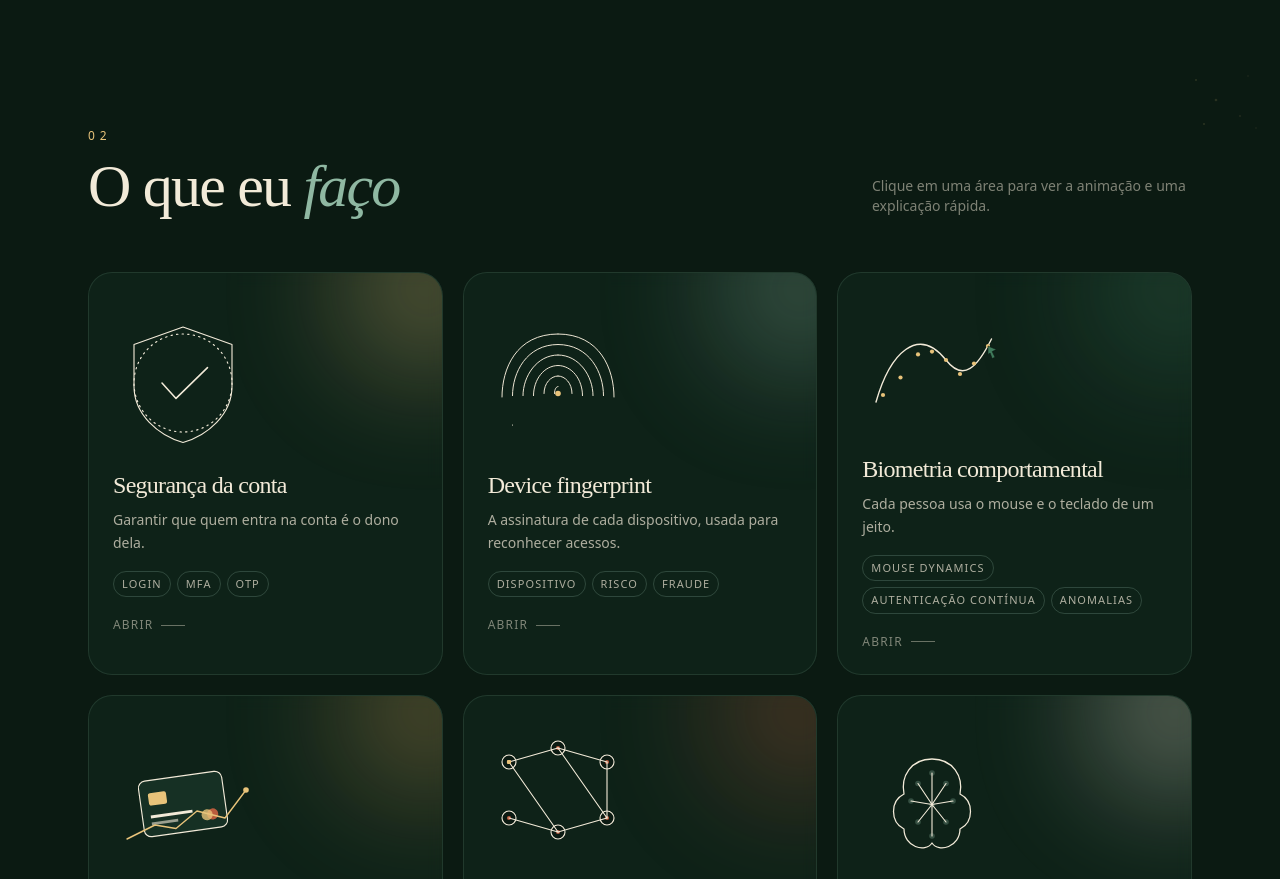
it: Expertise › abre o modal com a explicação da área e registra o evento
This screenshot has width=1280, height=879.
Click the button "Segurança da conta" at (265, 473), box [88,272,443,674]
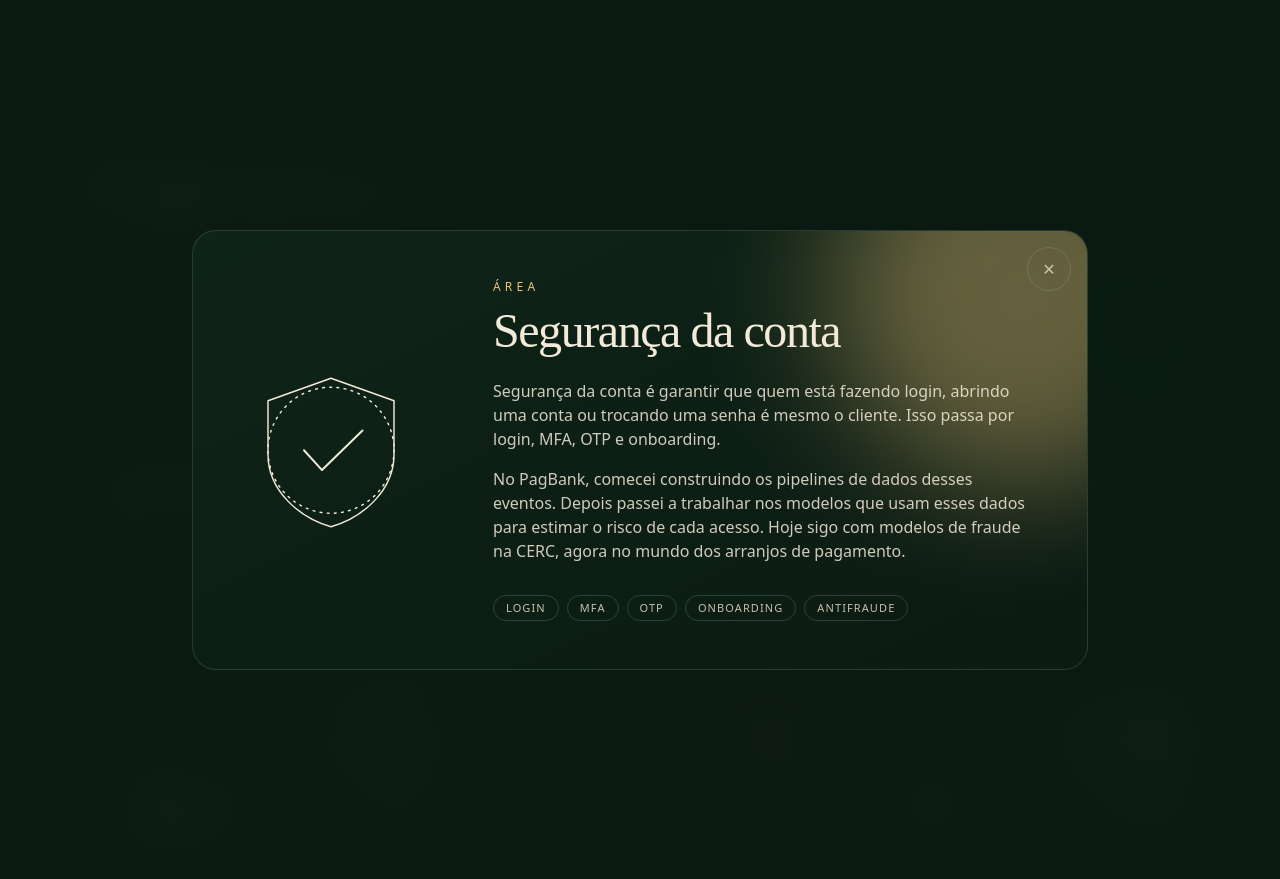
Now the heading "Segurança da conta" is shown, box [493,304,840,357]
Now the text "Segurança da conta é garantir que quem está fazendo login, abrindo uma conta ou trocando uma senha é mesmo o cliente. Is" is shown, box [493,380,1014,450]
Now the text "No PagBank, comecei construindo os pipelines de dados desses eventos. Depois passei a trabalhar nos modelos que usam ess" is shown, box [493,468,1025,562]
